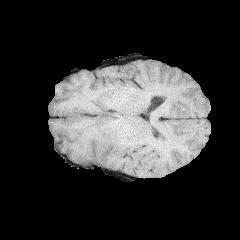glioma: (61, 111, 122, 166)
